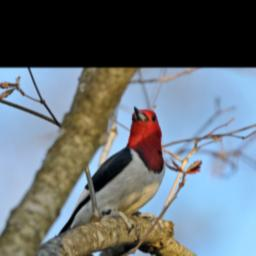Woodpecker: (50, 99, 171, 251)
